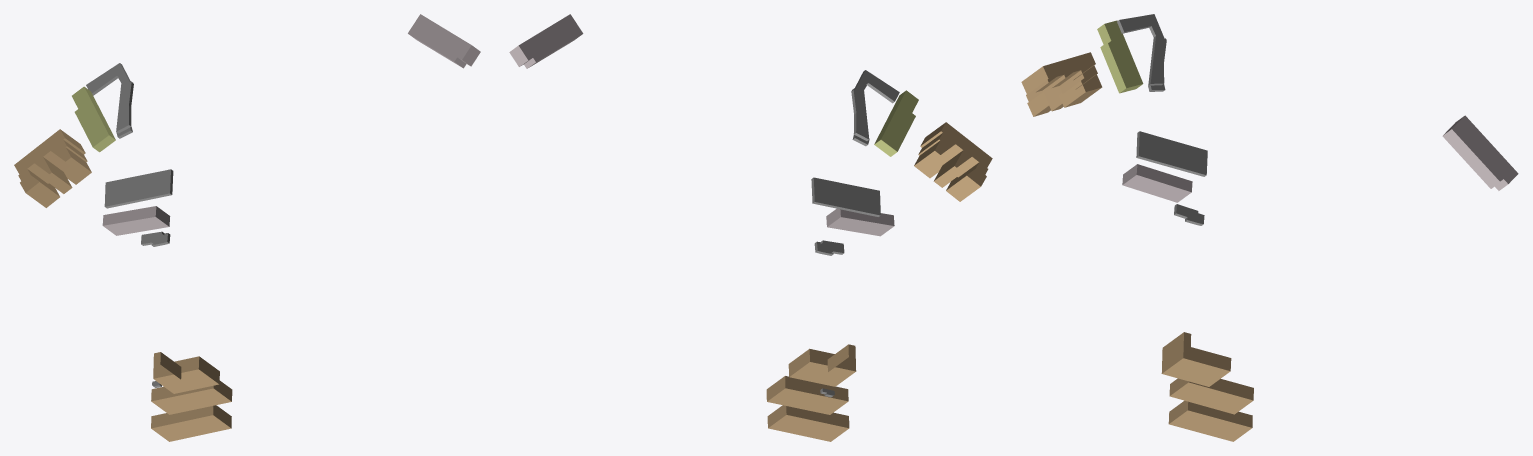
3 renders of one model, left to right at view 1: azimuth 30°, elevation 25°; view 2: azimuth 150°, elevation 25°; view 3: azimuth 330°, elevation 25°, orthographic. The views are drawn at different scales.
Parts seen in each view (by area): view 1: 0_3_0_2_1_2; view 2: 0_3_0_2_1_2; view 3: 0_3_0_2_1_2.
Boxes of the visible parts, x1,y1,x2,y2 form: 0_3_0_2_1_2: (14, 14, 480, 441); 0_3_0_2_1_2: (509, 14, 992, 441); 0_3_0_2_1_2: (1021, 14, 1518, 441).
Bounding box in the file's own units: 344 × 270 × 31.7.
